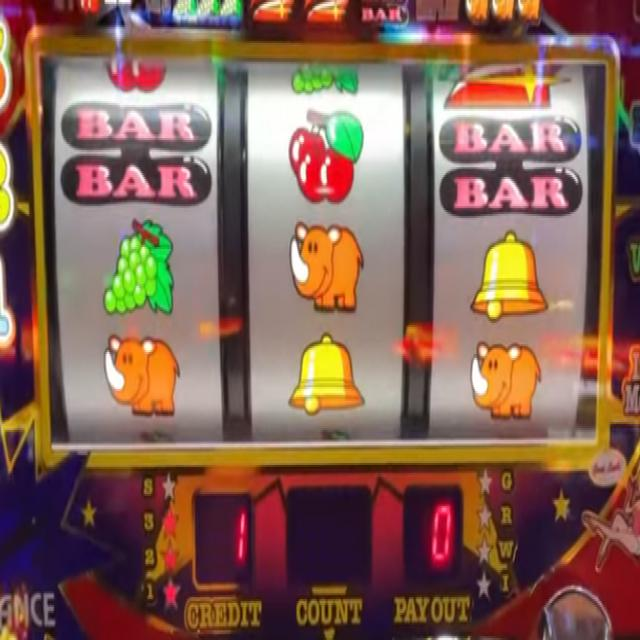bar: (60, 100, 210, 204), (438, 114, 582, 218), (362, 5, 408, 27)
bell: (470, 230, 546, 320), (287, 331, 365, 416)
cherry: (288, 108, 365, 208), (105, 58, 167, 90)
display: (34, 50, 598, 446)
elephant: (290, 221, 366, 317), (104, 332, 180, 420), (470, 342, 542, 425), (464, 0, 489, 22), (492, 0, 514, 23)
grape: (102, 215, 177, 323), (290, 66, 359, 96), (196, 0, 220, 21), (173, 0, 194, 23), (220, 0, 240, 19)
z: (437, 61, 571, 108), (304, 0, 348, 23), (251, 0, 292, 23)
